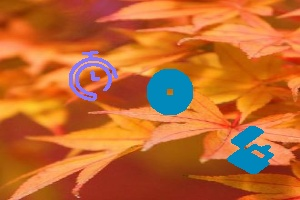打火机: (228, 125, 276, 176)
时钟: (68, 51, 118, 101)
铜钱: (146, 69, 194, 116)
